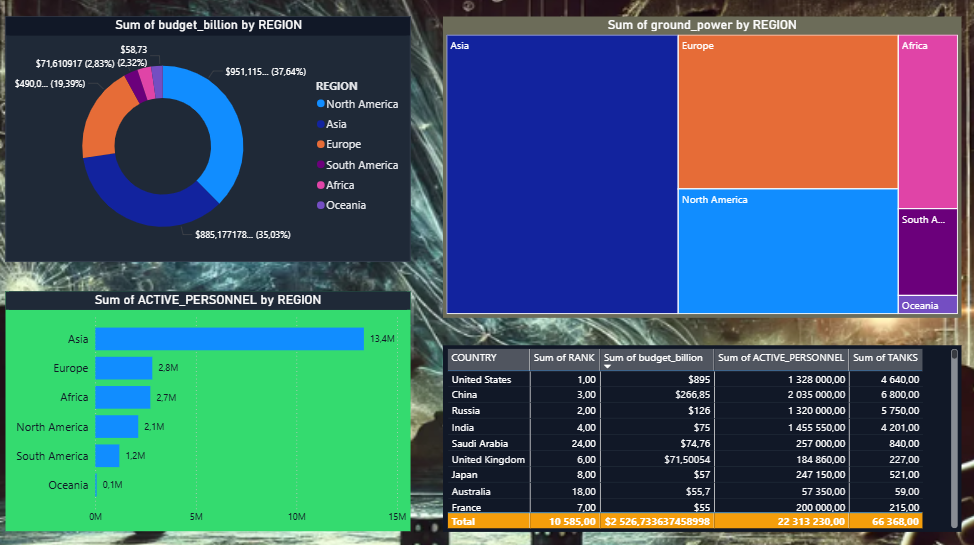

The page's visual inventory and layout, read from the dashboard file:
{"tool":"powerbi","page":{"name":"Regional Analysis","canvas":[1280,720],"ordinal":2},"visuals":[{"type":"donutChart","fields":{"Category":["MILITARY_DATA.REGION"],"Y":["Sum(MILITARY_DATA.budget_billion)"]},"box":[9.4,23.4,531.2,321.9],"z":0},{"type":"clusteredBarChart","fields":{"Category":["MILITARY_DATA.REGION"],"Y":["Sum(MILITARY_DATA.ACTIVE_PERSONNEL)"]},"box":[9.4,384.4,531.2,314.1],"z":1000},{"type":"tableEx","fields":{"Values":["MILITARY_DATA.COUNTRY","Sum(MILITARY_DATA.RANK)","Sum(MILITARY_DATA.budget_billion)","Sum(MILITARY_DATA.ACTIVE_PERSONNEL)","Sum(MILITARY_DATA.TANKS)"]},"box":[583.3,453.3,680,245],"z":2000},{"type":"treemap","fields":{"Group":["MILITARY_DATA.REGION"],"Values":["Sum(MILITARY_DATA.ground_power)"]},"box":[583.3,23.3,680,395],"z":2001}]}

Visuals, with their boxes in screenshot pixels (x1, y1, x2, y2), scaled from the page's 1280x720 canvas onto the 974x545 screenshot:
donutChart - MILITARY_DATA.REGION x Sum(MILITARY_DATA.budget_billion): <region>7, 18, 411, 261</region>
clusteredBarChart - MILITARY_DATA.REGION x Sum(MILITARY_DATA.ACTIVE_PERSONNEL): <region>7, 291, 411, 529</region>
tableEx - MILITARY_DATA.COUNTRY x Sum(MILITARY_DATA.RANK): <region>444, 343, 961, 529</region>
treemap - MILITARY_DATA.REGION x Sum(MILITARY_DATA.ground_power): <region>444, 18, 961, 317</region>
